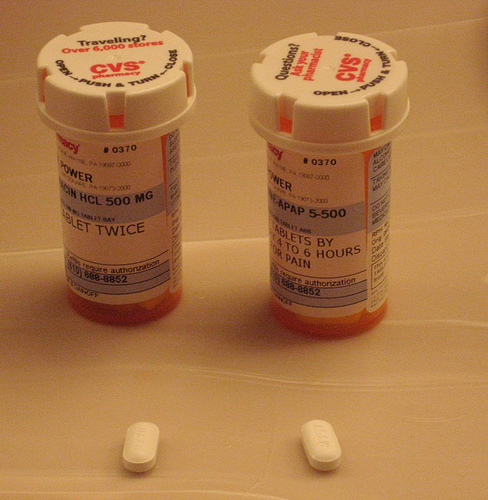pill bottle: (245, 28, 413, 345), (34, 19, 199, 331)
